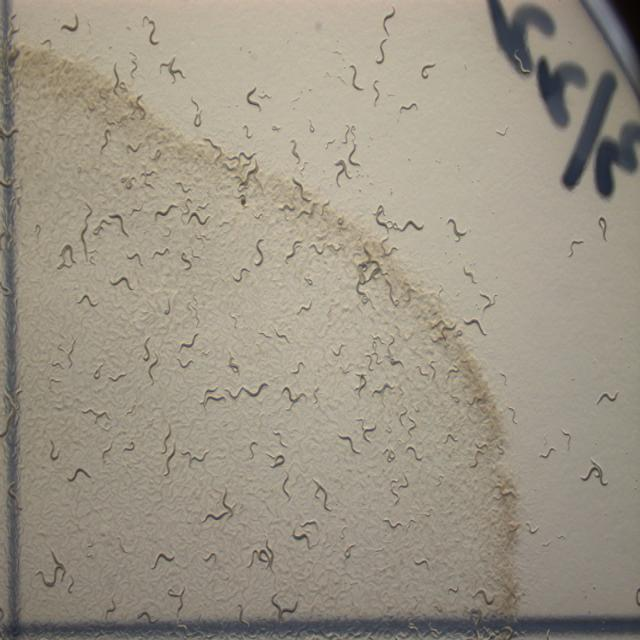filarid: (202, 487, 235, 522), (580, 457, 609, 485), (281, 385, 308, 410), (80, 204, 92, 259), (200, 387, 225, 411), (355, 417, 376, 443), (338, 432, 361, 454), (180, 450, 209, 466), (109, 214, 129, 237), (164, 442, 176, 477), (479, 290, 497, 313), (448, 219, 465, 242), (465, 317, 486, 335), (110, 275, 134, 290), (68, 467, 91, 482), (180, 332, 199, 350), (148, 352, 159, 383), (595, 392, 618, 405), (161, 425, 171, 453), (78, 294, 99, 307), (462, 267, 478, 284), (568, 239, 584, 256), (94, 219, 111, 235), (126, 252, 142, 267), (406, 445, 422, 460), (562, 429, 572, 450), (384, 445, 395, 462), (181, 252, 191, 269), (540, 447, 555, 457), (350, 422, 360, 437), (144, 337, 150, 360), (178, 359, 192, 368), (399, 410, 406, 428), (312, 385, 319, 403), (408, 419, 416, 433), (155, 247, 170, 254), (102, 447, 110, 460), (61, 245, 69, 256), (125, 442, 135, 450), (398, 437, 406, 445), (471, 459, 478, 467), (598, 219, 605, 226), (476, 442, 480, 453), (512, 412, 516, 421)
